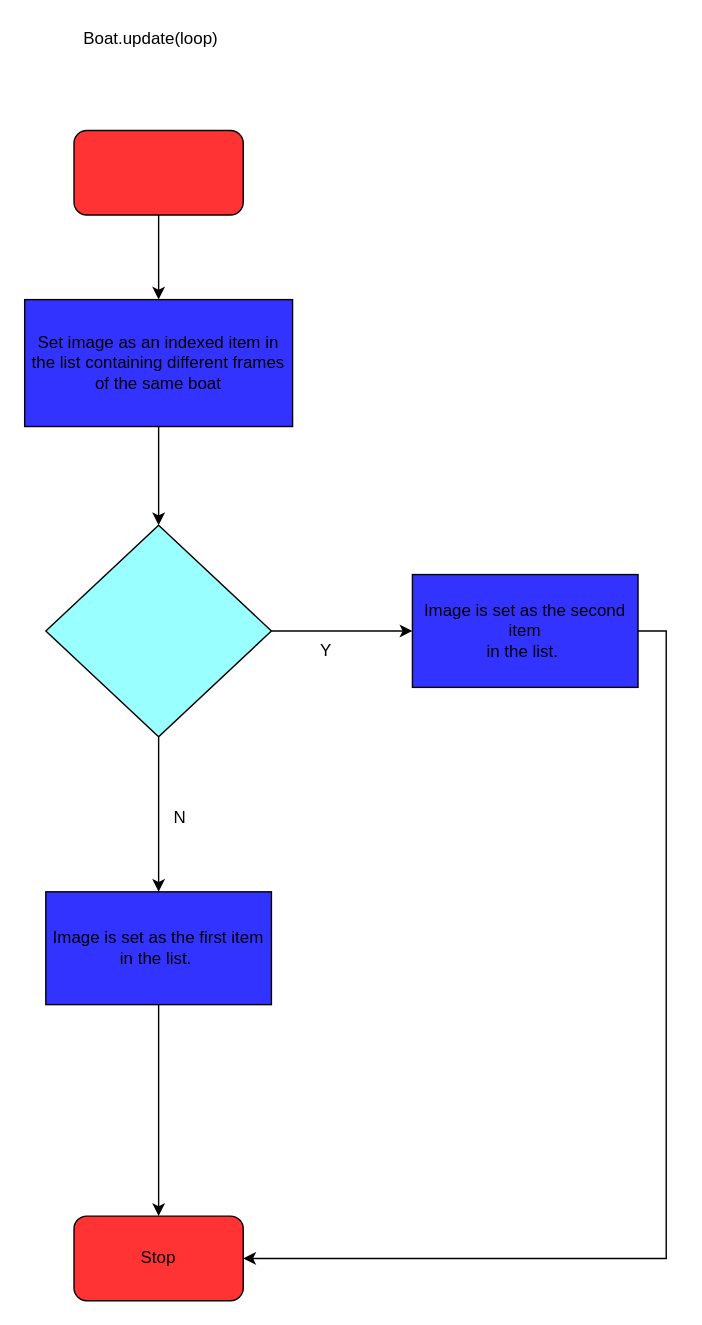
The diagram is 702 pixels wide and 1325 high, and some of its shapes have lost their labels. Here are the shapes that lost their labels. From the top down, the box of each, then its label:
(73, 129, 243, 215): Start
(44, 524, 271, 737): Is the image the first item in the list?
